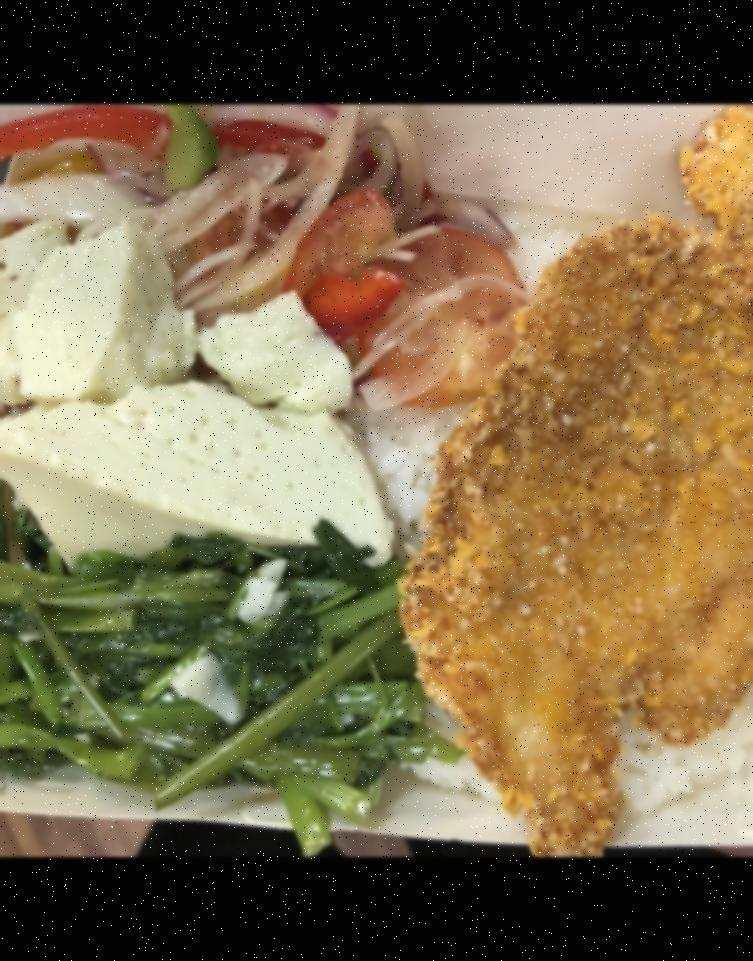box: (0, 121, 753, 857)
chicken steak: (405, 115, 753, 857)
side dish: (0, 104, 519, 394), (0, 223, 390, 562), (0, 529, 432, 822)
white rice: (395, 223, 753, 818)
